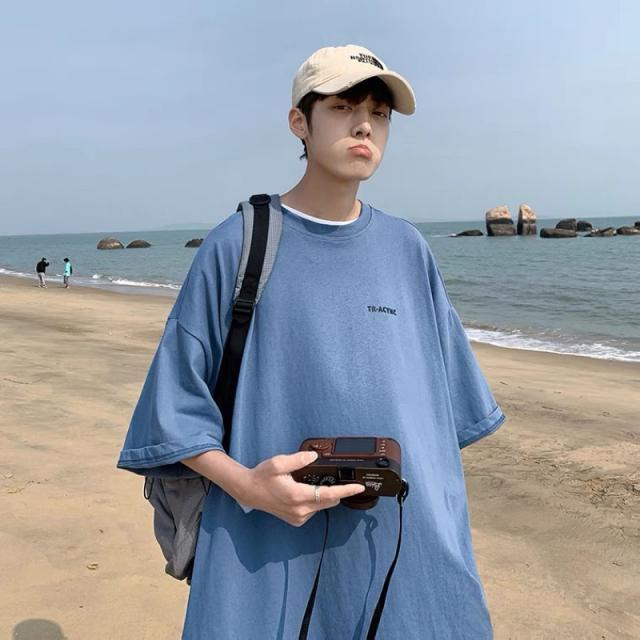Shirt: (114, 184, 510, 639)
